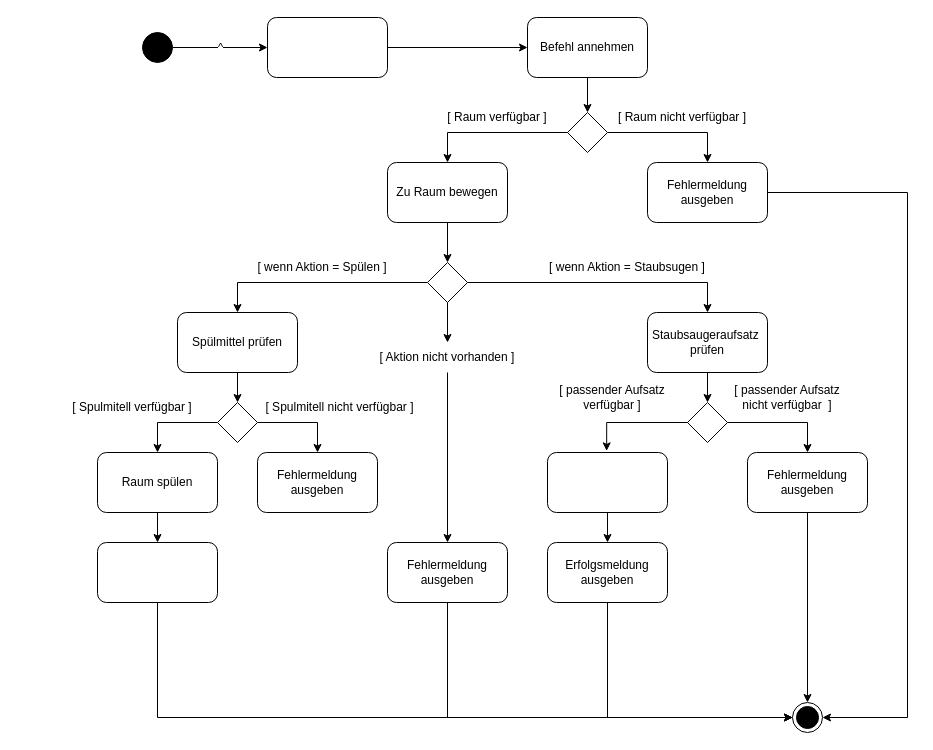
Image size: 933x750. Some labels were removed from this diagram. Here are the shapes that lost their labels. From the top down, the centre of each, then its label:
At point (327, 47): "Verfügbare Räume anzeigen".
At point (607, 482): "Raum absaugen".
At point (157, 572): "Meldung ausgeben".
